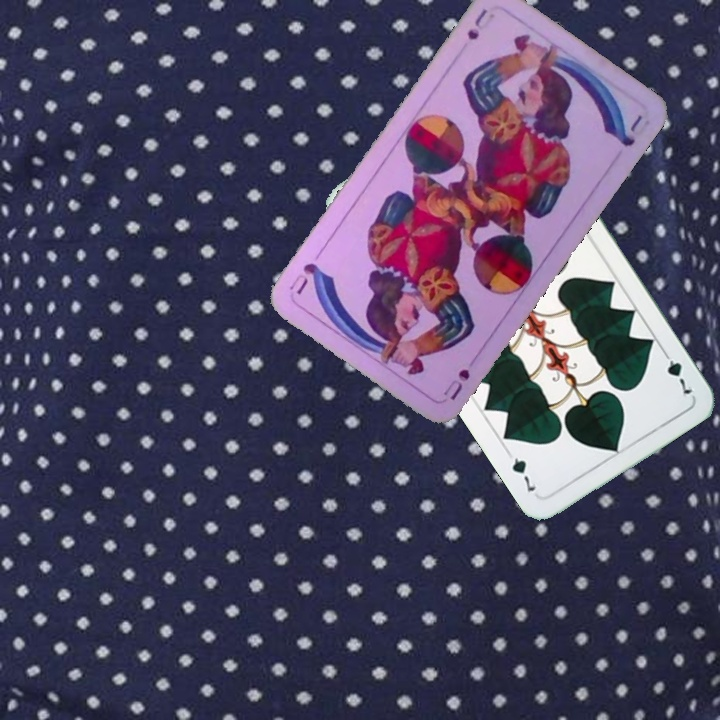G7: (658, 345, 695, 397)
SU: (463, 4, 498, 43), (438, 364, 473, 403)
